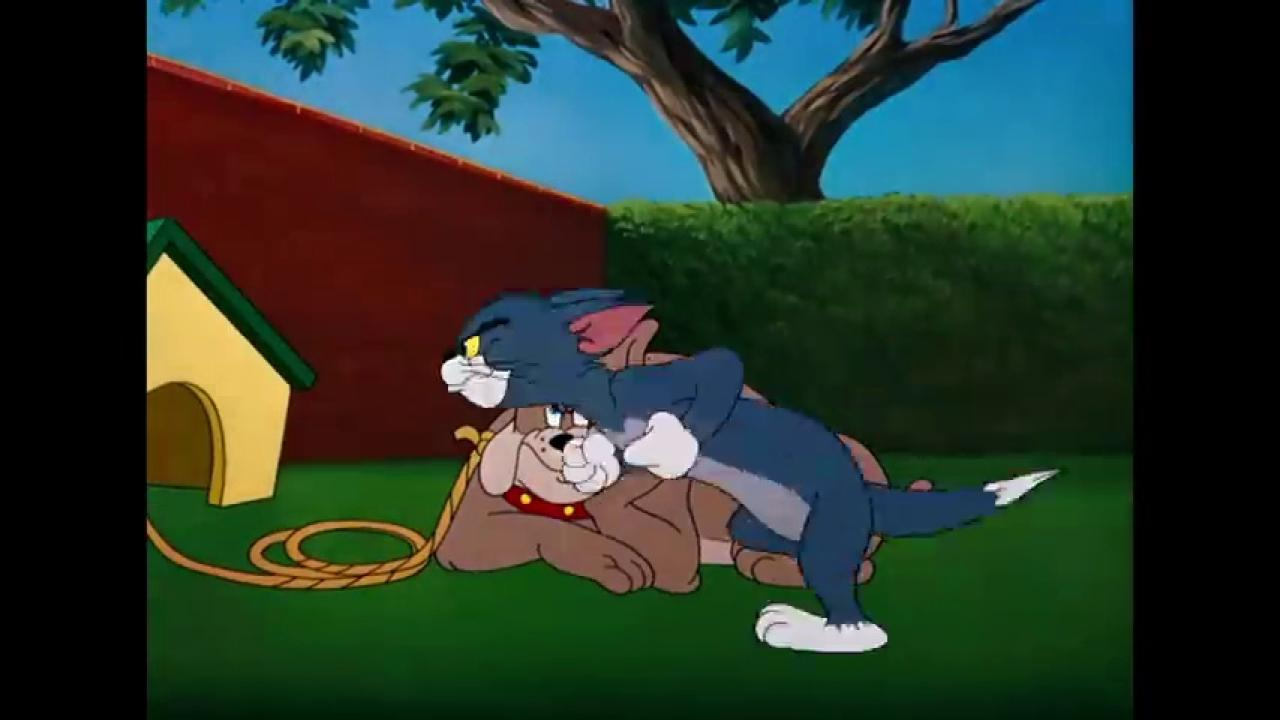Tom: (435, 277, 1063, 657)
